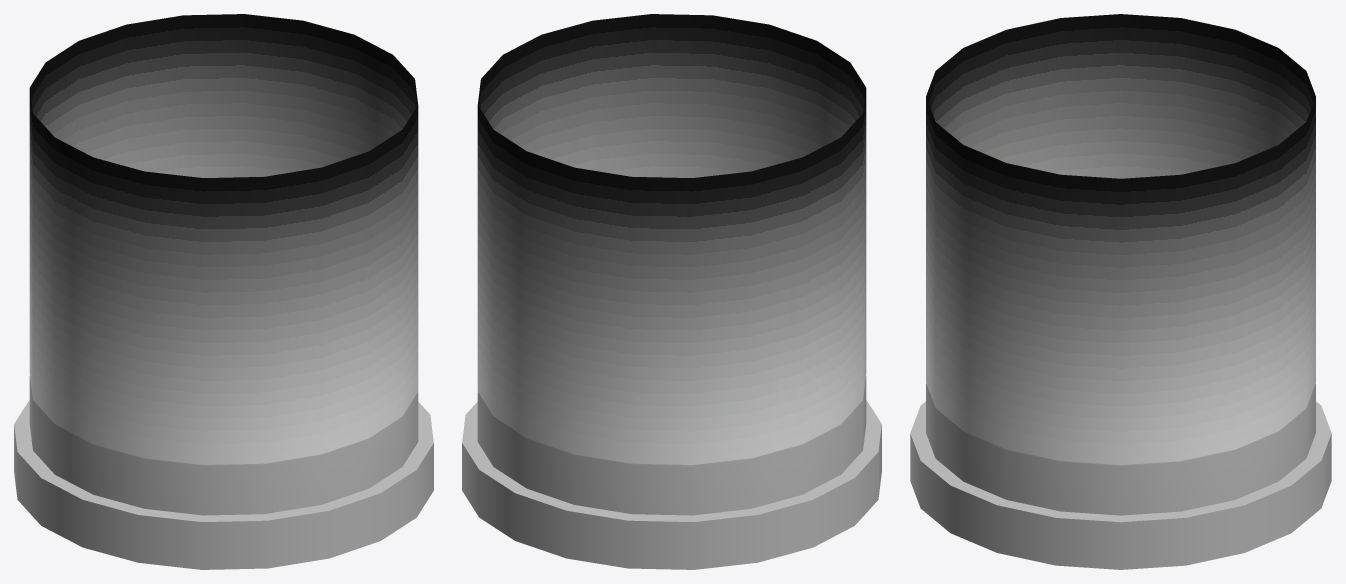
File: CharacterButton.fbx
3 views of the same model, side by side, from view 1: azimuth 30°, elevation 25°; view 2: azimuth 150°, elevation 25°; view 3: azimuth 270°, elevation 25° (orthographic).
Parts seen in each view (by area): view 1: GlowCylinder1, Rim, ButtonFace; view 2: GlowCylinder1, Rim, ButtonFace; view 3: GlowCylinder1, Rim, ButtonFace.
Boxes of the visible parts, left/top/right/bottom form: GlowCylinder1: left=29, top=14, right=418, bottom=464; Rim: left=14, top=400, right=433, bottom=569; ButtonFace: left=29, top=376, right=418, bottom=515; GlowCylinder1: left=477, top=14, right=866, bottom=464; Rim: left=462, top=400, right=881, bottom=569; ButtonFace: left=477, top=376, right=866, bottom=515; GlowCylinder1: left=926, top=14, right=1315, bottom=465; Rim: left=910, top=401, right=1331, bottom=569; ButtonFace: left=926, top=384, right=1315, bottom=515.
Size of the model in its own units: 0.04 by 0.0403 by 0.04.
